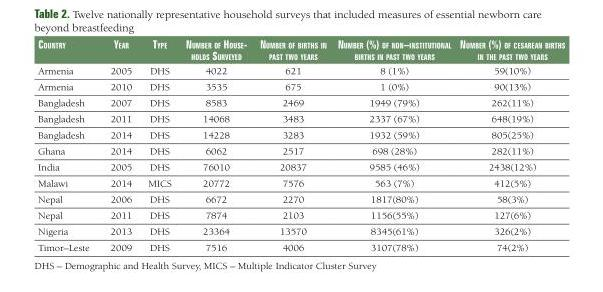table: (37, 37, 564, 252)
table column: (331, 37, 454, 252), (454, 37, 564, 252), (252, 37, 331, 252), (177, 37, 252, 252), (37, 37, 99, 252), (99, 37, 139, 252), (139, 37, 177, 252)
table column header: (37, 37, 564, 64)
table row: (37, 37, 564, 64), (37, 79, 564, 95), (37, 95, 564, 111), (37, 111, 564, 127), (37, 127, 564, 143), (37, 143, 564, 159), (37, 159, 564, 175), (37, 175, 564, 191), (37, 191, 564, 207), (37, 207, 564, 223), (37, 223, 564, 239), (37, 64, 564, 79), (37, 239, 564, 252)
